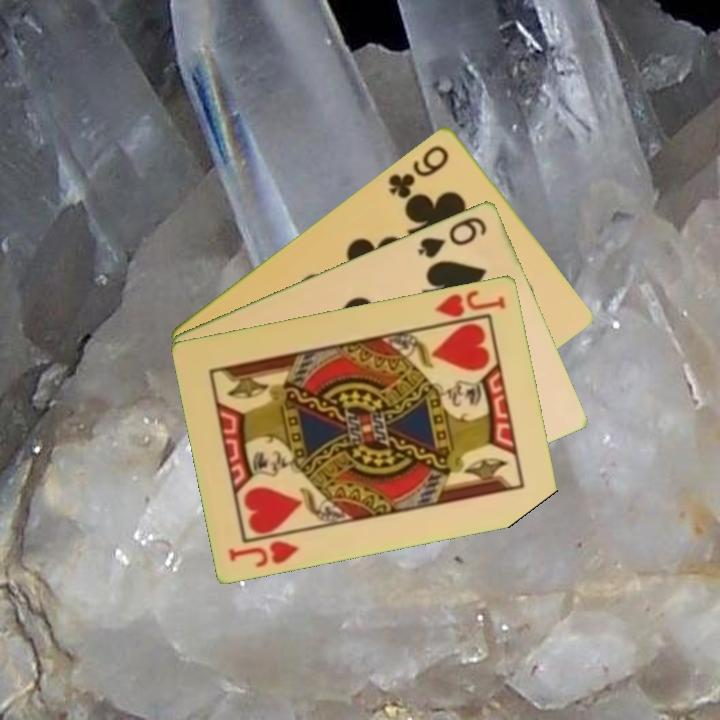6s: (414, 212, 490, 261)
9c: (384, 141, 452, 201)
Jh: (431, 286, 509, 320), (225, 536, 302, 570)
